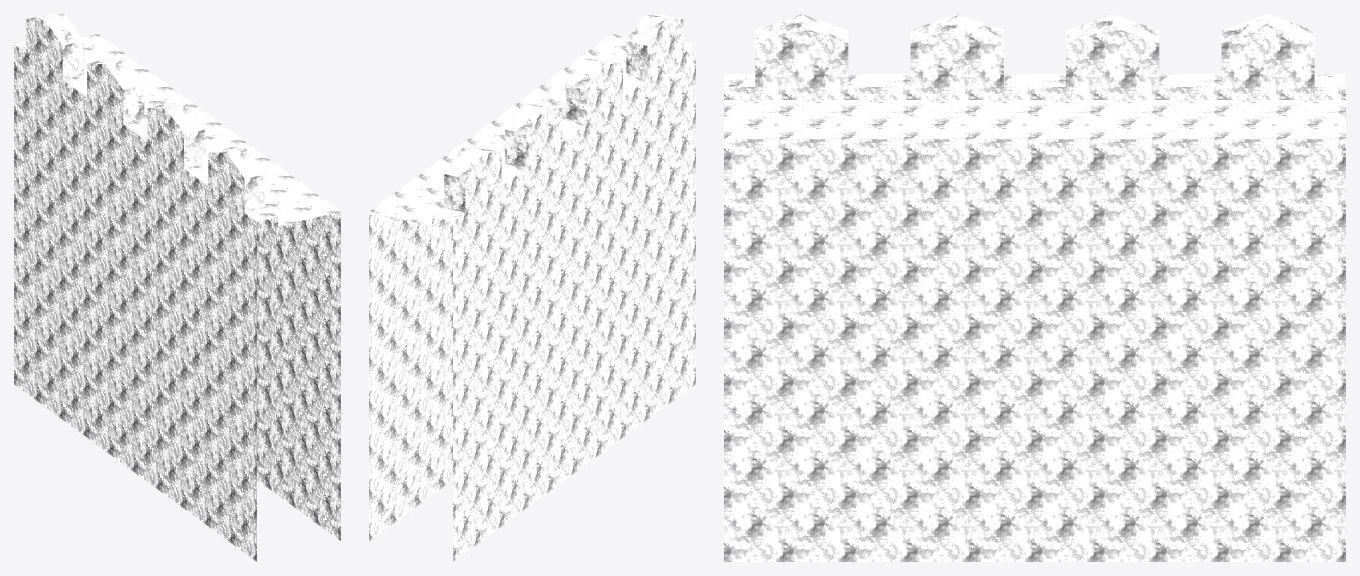
File: SM_castle_wall_01.fbx
The picture shows the model from 3 angles, left to right: view 1: azimuth 30°, elevation 25°; view 2: azimuth 150°, elevation 25°; view 3: azimuth 270°, elevation 25°; orthographic projection. The views are drawn at different scales.
Visible parts, largest first — view 1: SM_castle_wall_01_LOD0; view 2: SM_castle_wall_01_LOD0; view 3: SM_castle_wall_01_LOD0.
Part boxes in pixels (x1,y1,x2,y2): SM_castle_wall_01_LOD0: [14, 14, 340, 561]; SM_castle_wall_01_LOD0: [369, 14, 695, 561]; SM_castle_wall_01_LOD0: [724, 14, 1345, 561].
Size of the model in its own units: 400 by 2000 by 1758.
Materials: 1 (1 with a texture image).
